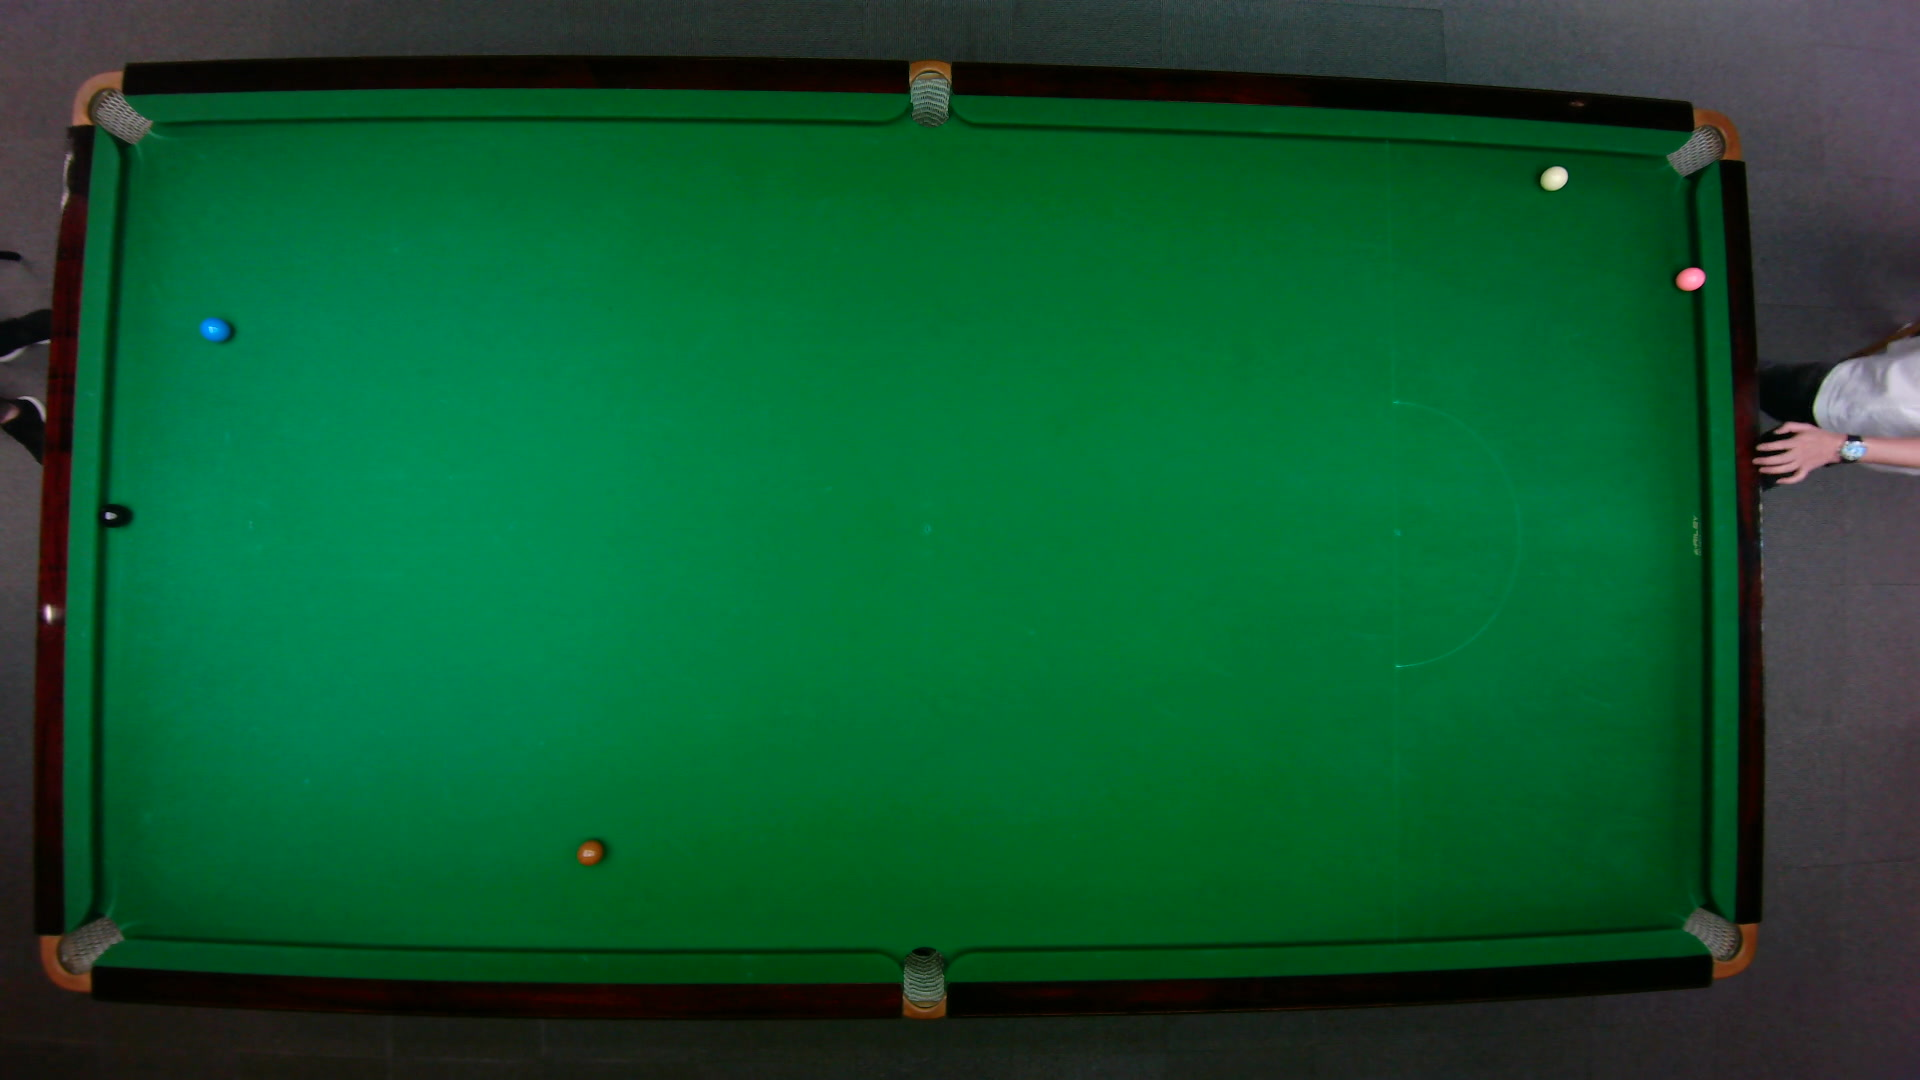bag: (37, 914, 125, 992), (69, 69, 152, 144), (1679, 905, 1756, 978), (1663, 107, 1742, 177), (901, 944, 945, 1021), (909, 57, 949, 128)
black: (96, 502, 127, 527)
blue: (196, 314, 231, 342)
brown: (574, 837, 603, 865)
pink: (1673, 264, 1706, 291)
white: (1538, 164, 1569, 190)
zone: (1391, 400, 1520, 669)
